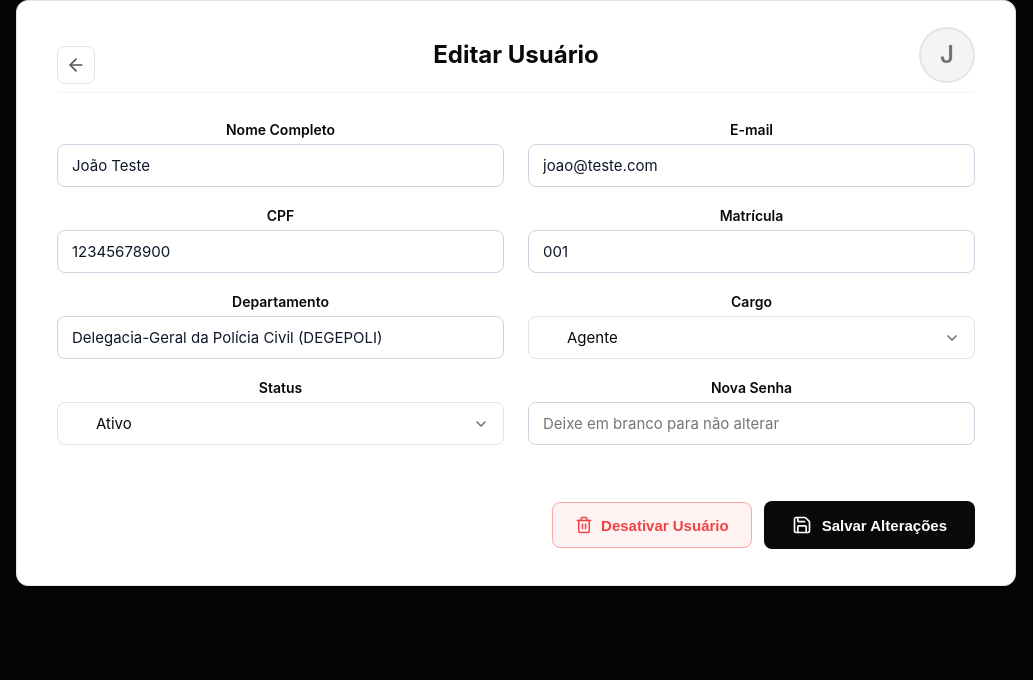
Test case: UsuarioEditContainer Component › deve permitir editar e salvar os dados do usuário
This screenshot has width=1033, height=680.
Replace the text in the field showing "João Teste" with "João Editado" at [280, 166], box [57,144,504,187]
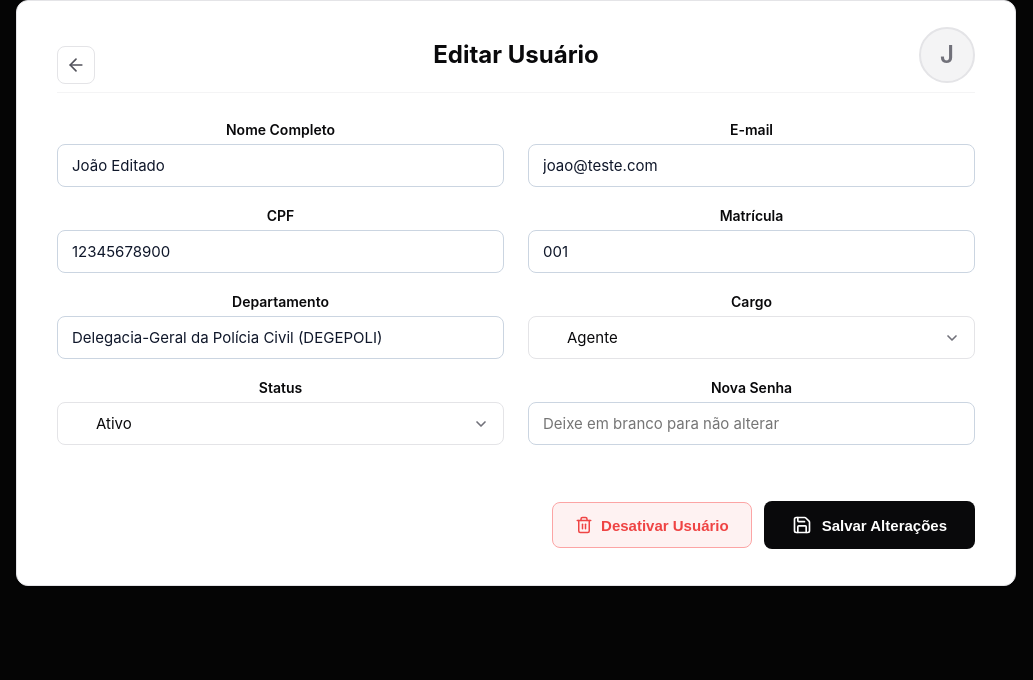
Submit the form named "salvar alterações", box [57,121,975,549]
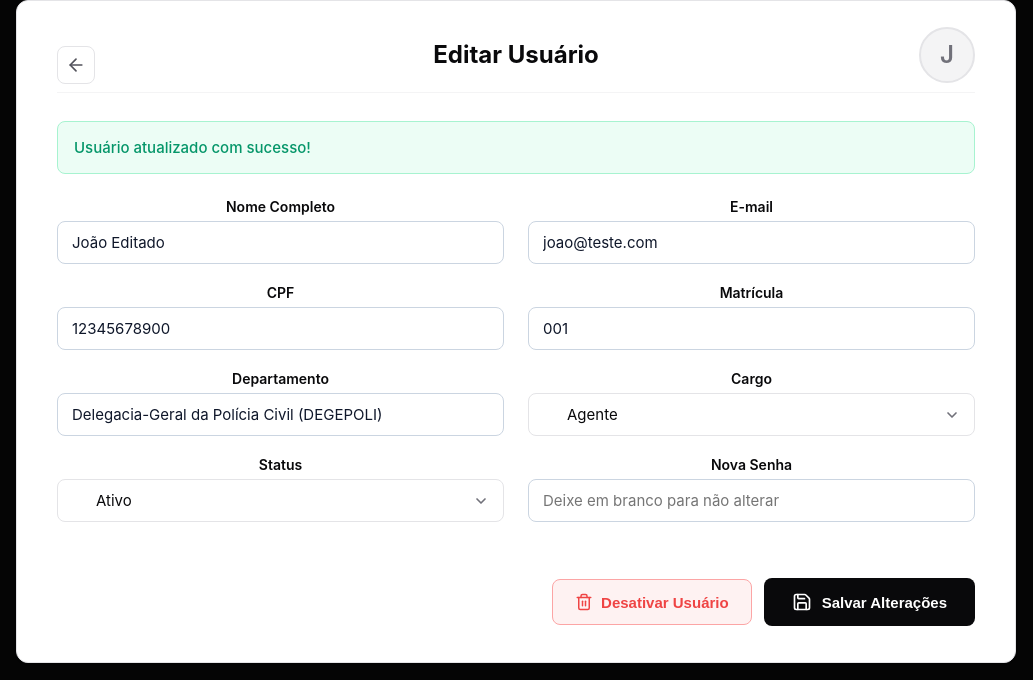
Result: the text "Usuário atualizado com sucesso!" is shown at [57,121,975,174]
